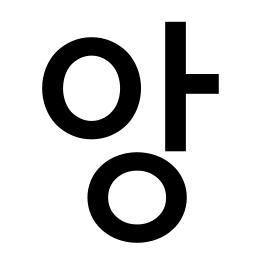Gaji: (152, 59, 206, 113)
